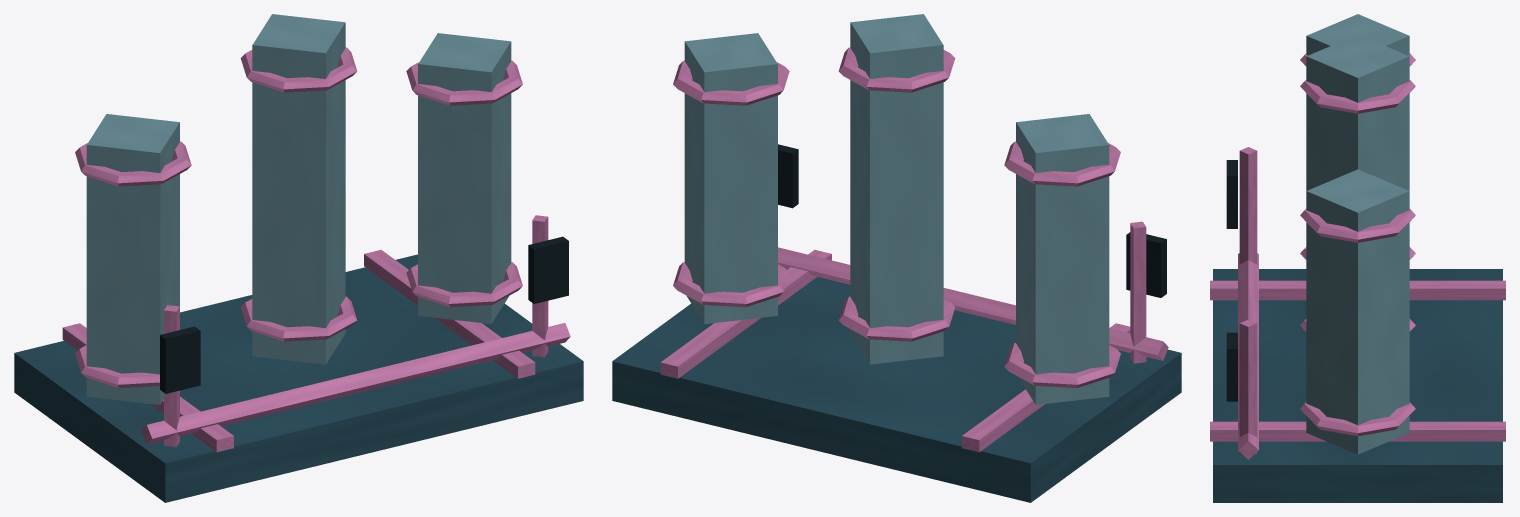
File: atlas100-s068-a01.lod2.glb
3 renders of one model, left to right at view 1: azimuth 30°, elevation 25°; view 2: azimuth 150°, elevation 25°; view 3: azimuth 270°, elevation 25°, orthographic. The views are drawn at different scales.
Visible parts, largest first — view 1: atlas100-s068-a01:part-000, atlas100-s068-a01:part-007, atlas100-s068-a01:part-011, atlas100-s068-a01:part-003, atlas100-s068-a01:part-019, atlas100-s068-a01:part-002, atlas100-s068-a01:part-016, atlas100-s068-a01:part-018, atlas100-s068-a01:part-008, atlas100-s068-a01:part-009, atlas100-s068-a01:part-005, atlas100-s068-a01:part-012 (+5 smaller); view 2: atlas100-s068-a01:part-000, atlas100-s068-a01:part-007, atlas100-s068-a01:part-003, atlas100-s068-a01:part-011, atlas100-s068-a01:part-019, atlas100-s068-a01:part-002, atlas100-s068-a01:part-015, atlas100-s068-a01:part-001, atlas100-s068-a01:part-008, atlas100-s068-a01:part-009, atlas100-s068-a01:part-005, atlas100-s068-a01:part-004 (+4 smaller); view 3: atlas100-s068-a01:part-000, atlas100-s068-a01:part-011, atlas100-s068-a01:part-007, atlas100-s068-a01:part-002, atlas100-s068-a01:part-001, atlas100-s068-a01:part-003, atlas100-s068-a01:part-019, atlas100-s068-a01:part-017, atlas100-s068-a01:part-015, atlas100-s068-a01:part-013, atlas100-s068-a01:part-009, atlas100-s068-a01:part-012 (+2 smaller).
Part boxes in pixels (left/top/right/bottom): atlas100-s068-a01:part-000: left=14, top=254, right=583, bottom=502; atlas100-s068-a01:part-007: left=252, top=14, right=345, bottom=364; atlas100-s068-a01:part-011: left=418, top=33, right=511, bottom=323; atlas100-s068-a01:part-003: left=86, top=114, right=179, bottom=404; atlas100-s068-a01:part-019: left=141, top=323, right=570, bottom=444; atlas100-s068-a01:part-002: left=364, top=249, right=535, bottom=378; atlas100-s068-a01:part-016: left=160, top=326, right=200, bottom=393; atlas100-s068-a01:part-018: left=528, top=236, right=568, bottom=303; atlas100-s068-a01:part-008: left=240, top=296, right=357, bottom=341; atlas100-s068-a01:part-009: left=240, top=47, right=357, bottom=92; atlas100-s068-a01:part-005: left=75, top=141, right=191, bottom=186; atlas100-s068-a01:part-012: left=406, top=262, right=522, bottom=307; atlas100-s068-a01:part-000: left=612, top=269, right=1181, bottom=502; atlas100-s068-a01:part-007: left=850, top=14, right=943, bottom=364; atlas100-s068-a01:part-003: left=1016, top=114, right=1109, bottom=404; atlas100-s068-a01:part-011: left=684, top=33, right=777, bottom=323; atlas100-s068-a01:part-019: left=778, top=247, right=1168, bottom=360; atlas100-s068-a01:part-002: left=660, top=249, right=831, bottom=378; atlas100-s068-a01:part-015: left=1130, top=221, right=1146, bottom=363; atlas100-s068-a01:part-001: left=962, top=323, right=1130, bottom=452; atlas100-s068-a01:part-008: left=838, top=296, right=955, bottom=341; atlas100-s068-a01:part-009: left=838, top=47, right=955, bottom=92; atlas100-s068-a01:part-005: left=1004, top=141, right=1120, bottom=186; atlas100-s068-a01:part-004: left=1004, top=343, right=1120, bottom=387; atlas100-s068-a01:part-000: left=1213, top=269, right=1502, bottom=502; atlas100-s068-a01:part-011: left=1306, top=169, right=1409, bottom=454; atlas100-s068-a01:part-007: left=1306, top=34, right=1409, bottom=190; atlas100-s068-a01:part-002: left=1210, top=421, right=1505, bottom=441; atlas100-s068-a01:part-001: left=1210, top=280, right=1505, bottom=300; atlas100-s068-a01:part-003: left=1306, top=14, right=1409, bottom=55; atlas100-s068-a01:part-019: left=1238, top=253, right=1258, bottom=459; atlas100-s068-a01:part-017: left=1239, top=319, right=1257, bottom=453; atlas100-s068-a01:part-015: left=1239, top=147, right=1257, bottom=264; atlas100-s068-a01:part-013: left=1300, top=209, right=1415, bottom=242; atlas100-s068-a01:part-009: left=1300, top=80, right=1415, bottom=113; atlas100-s068-a01:part-012: left=1300, top=402, right=1415, bottom=436.
Bounding box in the file's own units: 3 × 2.39 × 1.84.
4 materials, 4 textured.
